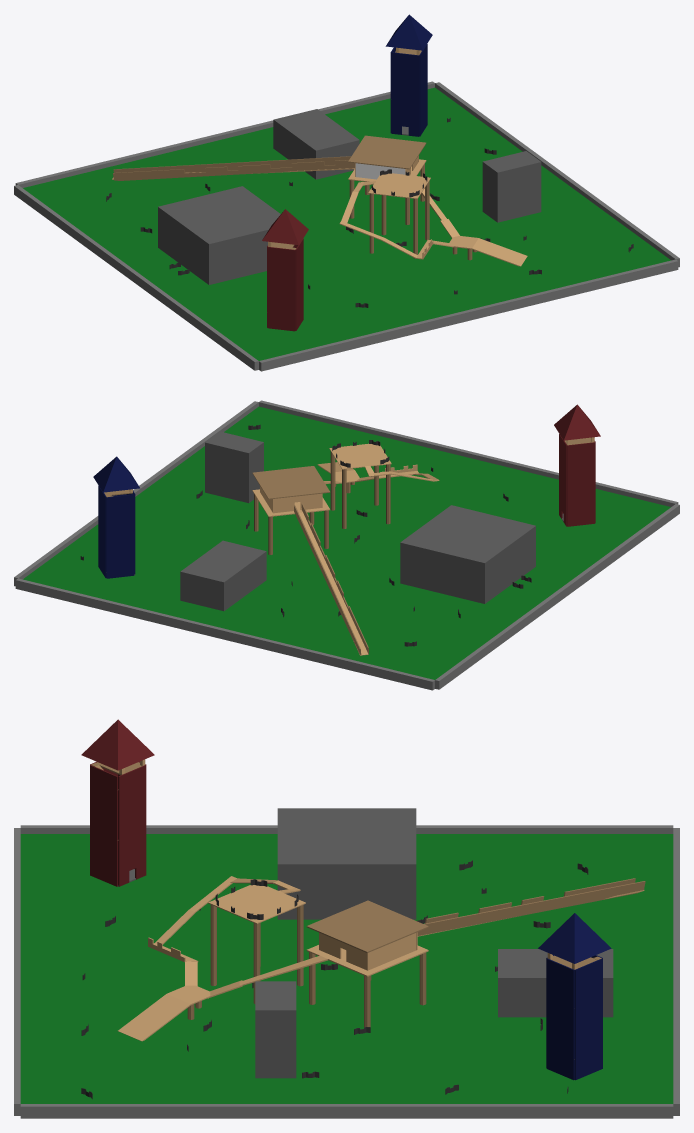
Rendered from Redblue.glb.
3 views of the same model, one above another, from view 1: azimuth 30°, elevation 25°; view 2: azimuth 150°, elevation 25°; view 3: azimuth 270°, elevation 25° (orthographic). The views are drawn at different scales.
Visible parts, largest first — view 1: Plane, Plane.070, Plane.003, Plane.072, Plane.071, Plane.002, Plane.004, Plane.065, Plane.035, Plane.001, Plane.109, Plane.030 (+7 smaller); view 2: Plane, Plane.070, Plane.004, Plane.071, Plane.072, Plane.002, Plane.003, Plane.034, Plane.068, Plane.030, Plane.001, Plane.016 (+9 smaller); view 3: Plane, Plane.070, Plane.001, Plane.071, Plane.002, Plane.072, Plane.030, Plane.033, Plane.036, Plane.066, Plane.067, Plane.108 (+10 smaller).
Part boxes in pixels (x1,y1,x2,y2): Plane: (23,87,670,360); Plane.070: (158,186,280,284); Plane.003: (259,259,678,371); Plane.072: (482,151,541,222); Plane.071: (273,109,359,179); Plane.002: (14,185,258,370); Plane.004: (15,81,434,187); Plane.065: (267,247,295,331); Plane.035: (391,52,419,136); Plane.001: (435,82,679,267); Plane.109: (113,160,354,180); Plane.030: (348,135,426,169); Plane: (23,406,670,679); Plane.070: (400,505,535,603); Plane.004: (15,578,434,690); Plane.071: (180,540,266,611); Plane.072: (205,431,263,503); Plane.002: (435,504,679,689); Plane.003: (259,400,678,506); Plane.034: (106,494,134,578); Plane.068: (567,442,594,526); Plane.030: (252,466,330,499); Plane.001: (14,401,258,586); Plane.016: (329,443,391,469); Plane: (20,834,673,1103); Plane.070: (277,808,416,919); Plane.001: (20,1104,673,1118); Plane.071: (498,949,613,1017); Plane.002: (20,825,673,833); Plane.072: (255,981,296,1078); Plane.030: (306,900,428,952); Plane.033: (546,958,574,1080); Plane.036: (574,958,602,1080); Plane.066: (118,765,146,886); Plane.067: (90,765,117,886); Plane.108: (417,881,645,935).
Size of the model in its own units: 204 by 54.69 by 204.
